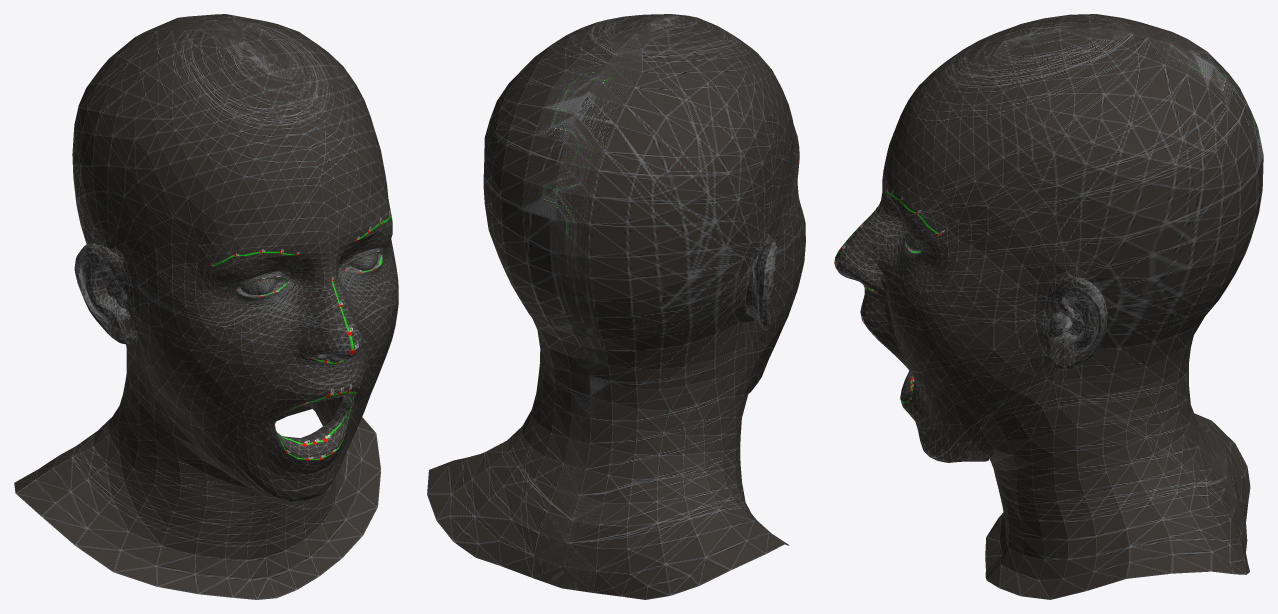
Rendered from flame_canonical_68lmk_textured.obj.
3 renders of one model, left to right at view 1: azimuth 30°, elevation 25°; view 2: azimuth 150°, elevation 25°; view 3: azimuth 270°, elevation 25°, orthographic. The views are drawn at different scales.
Bounding box in the file's own units: 0.8635 × 1.29 × 0.922.
1 material, 1 textured.
